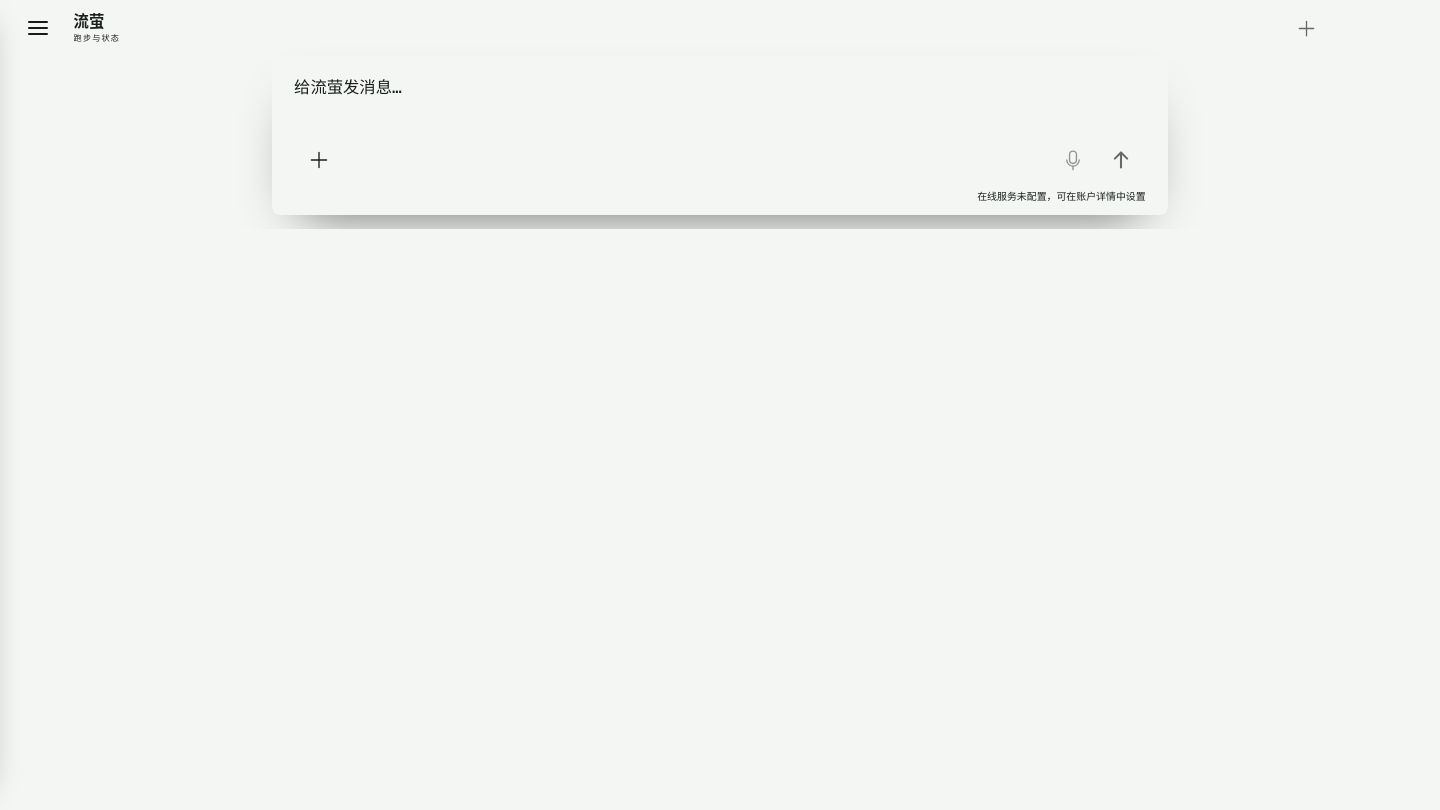
Scenario: 未接原生时不读写任务，不展示假任务
This screenshot has width=1440, height=810.
Click the button named "更多输入选项".
click(319, 160)  # box [297, 138, 341, 182]
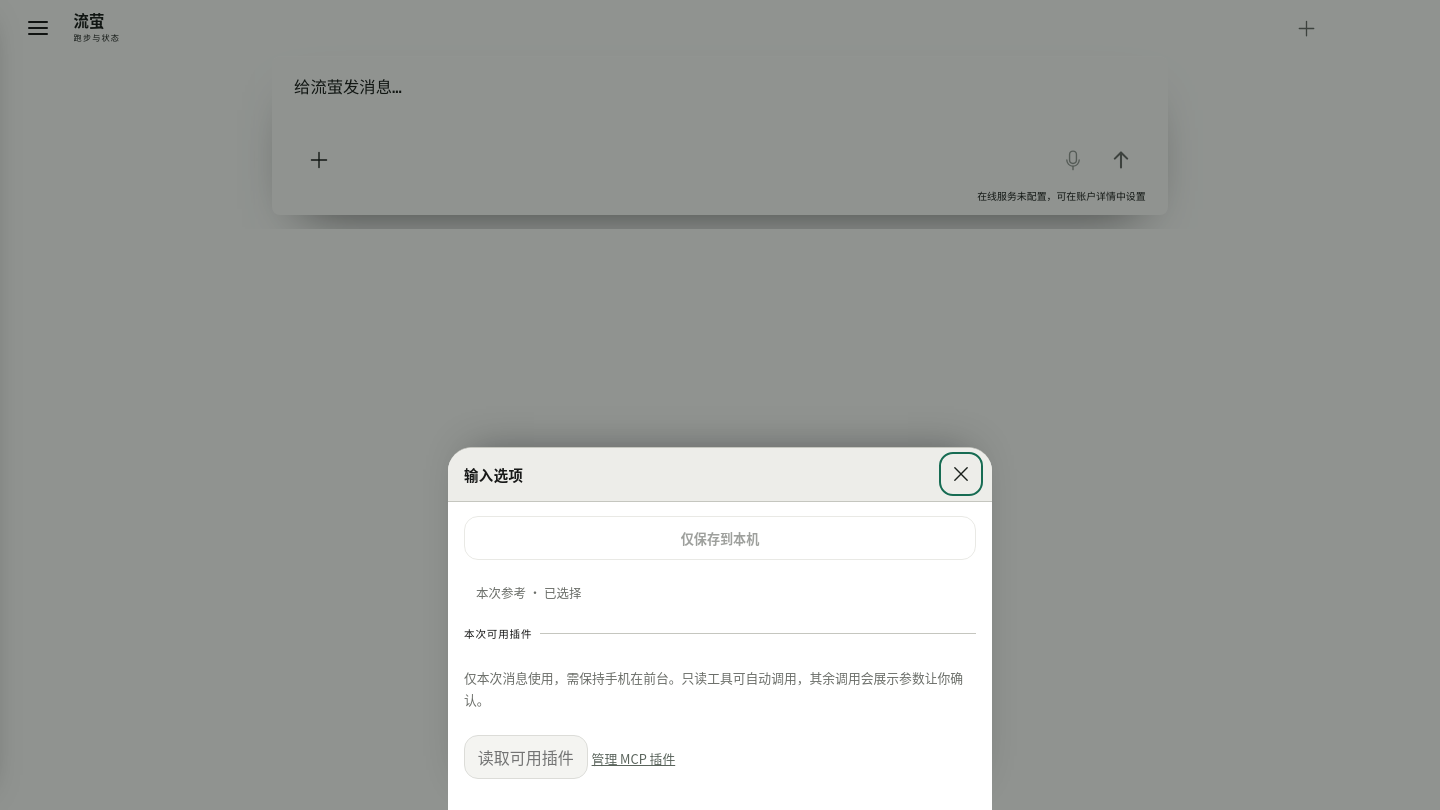
Expected: the button "仅保存" is disabled, [464, 516, 976, 560]
Press Escape
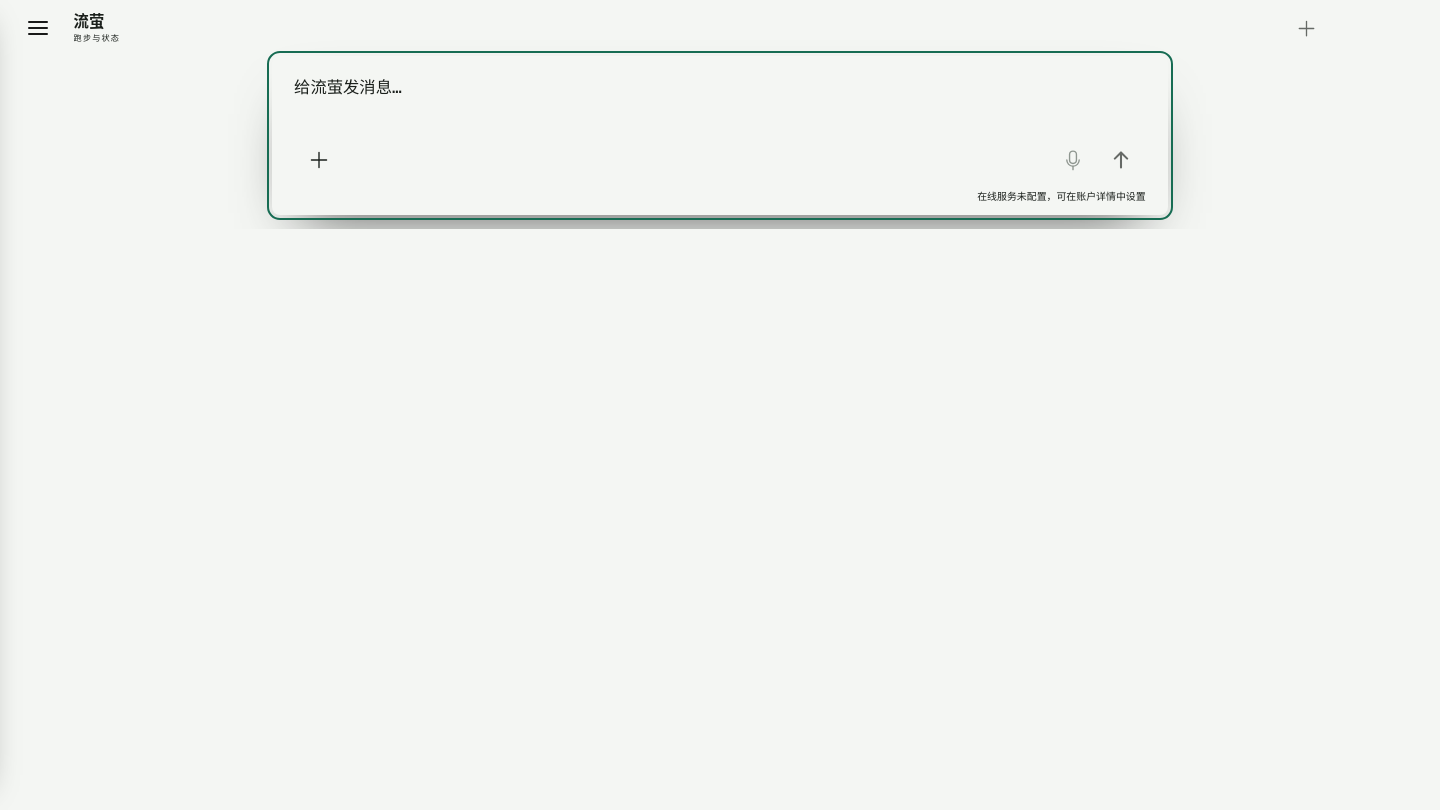
Click the button named "打开侧边栏".
click(38, 28)  # box [16, 6, 60, 50]
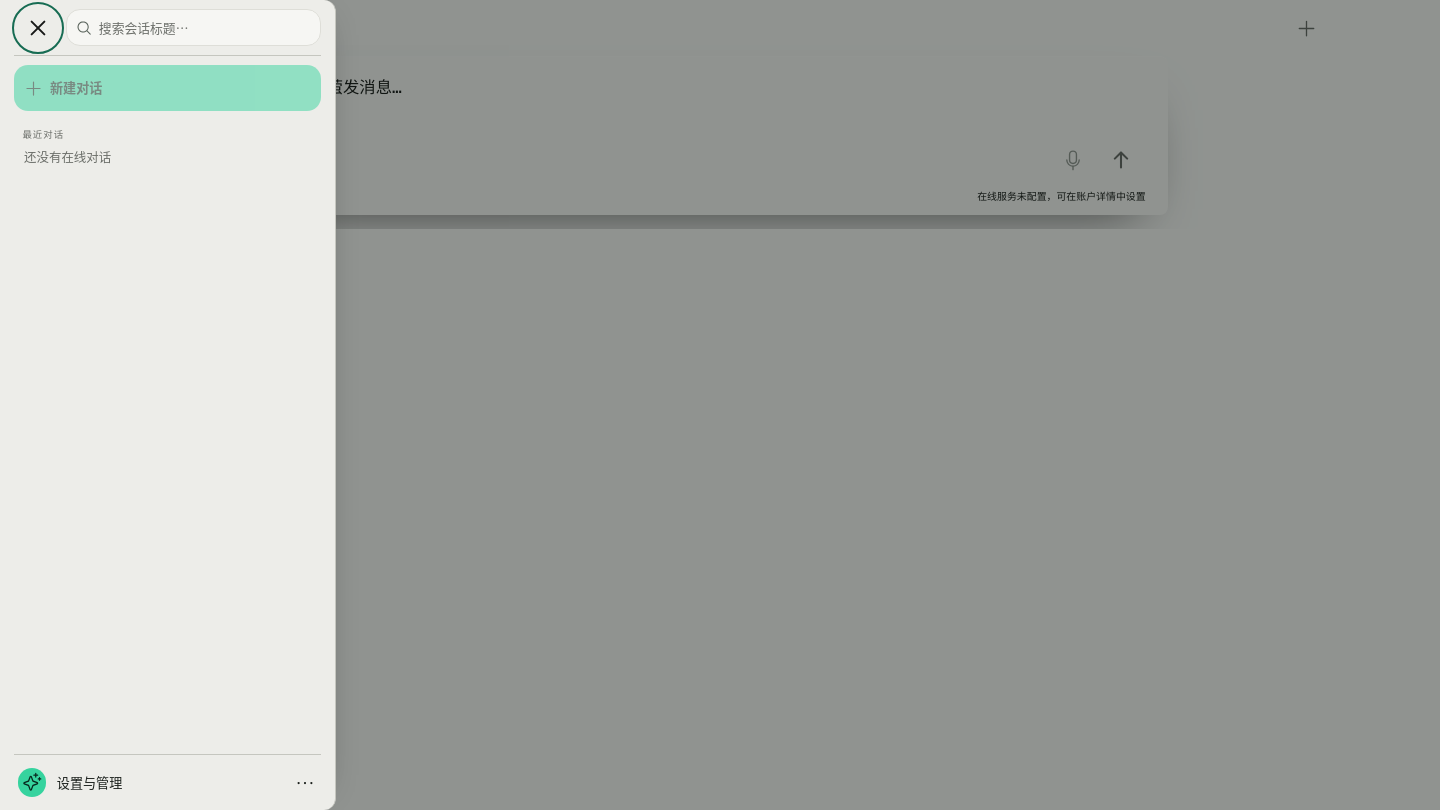
Click the button "设置与管理".
click(90, 782)  # box [14, 754, 321, 809]
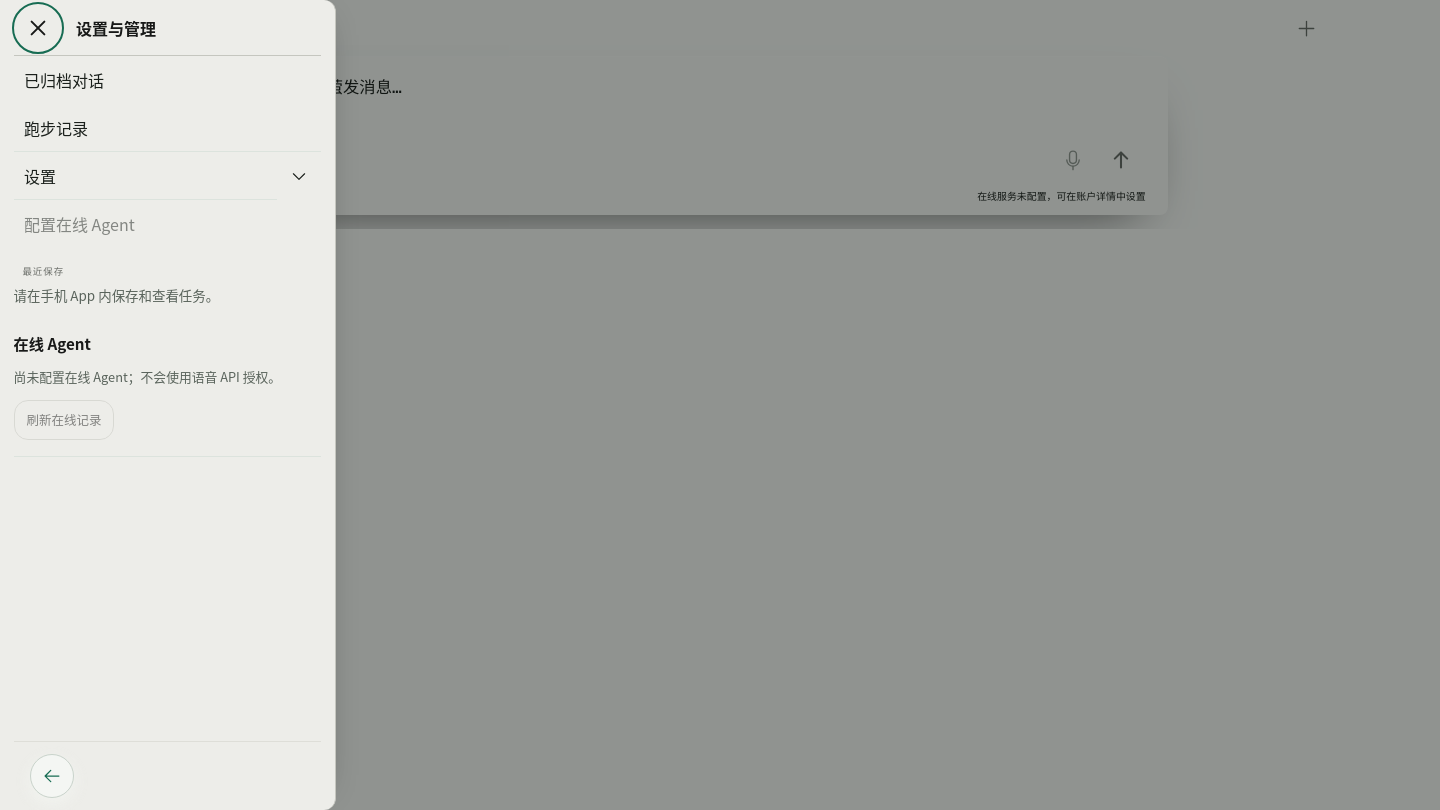
Expected: the text "请在手机 App 内保存和查看任务。" is shown, [14, 285, 219, 305]
